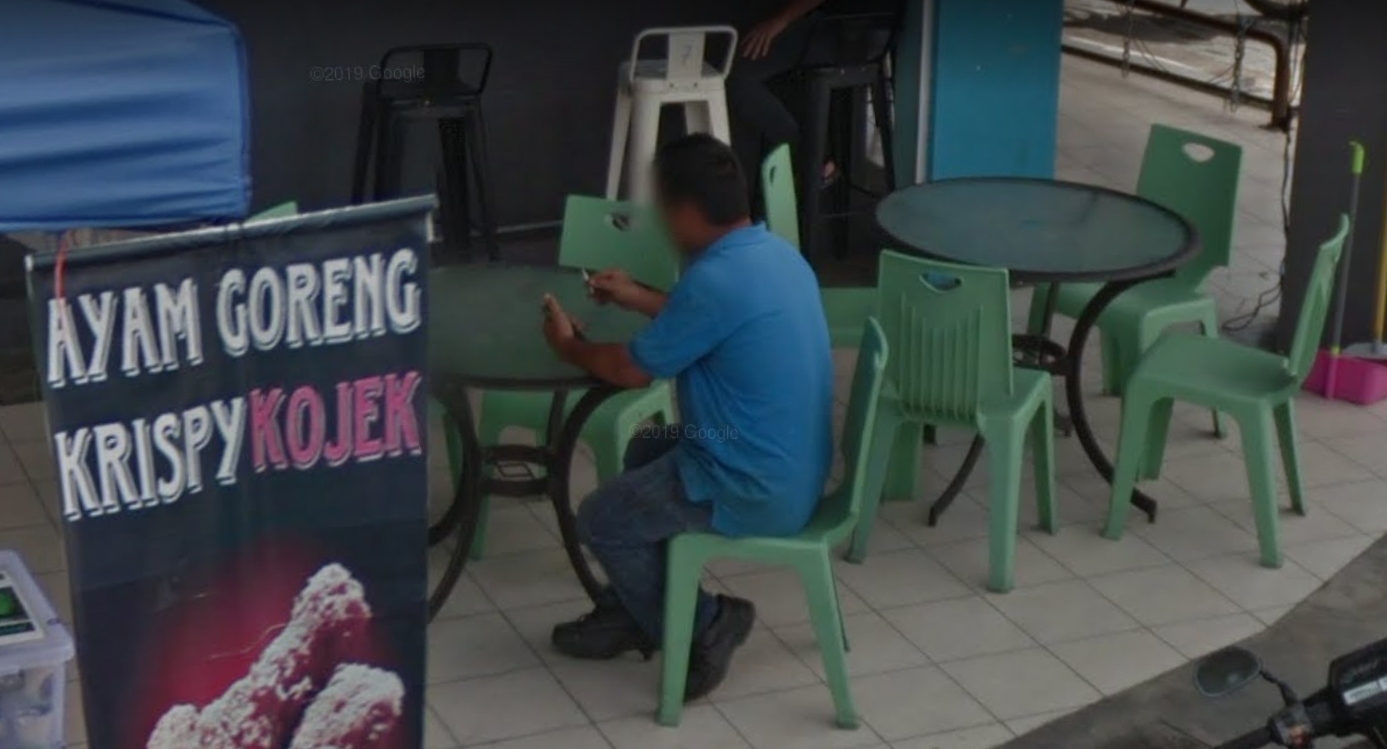sit: (546, 122, 869, 695)
